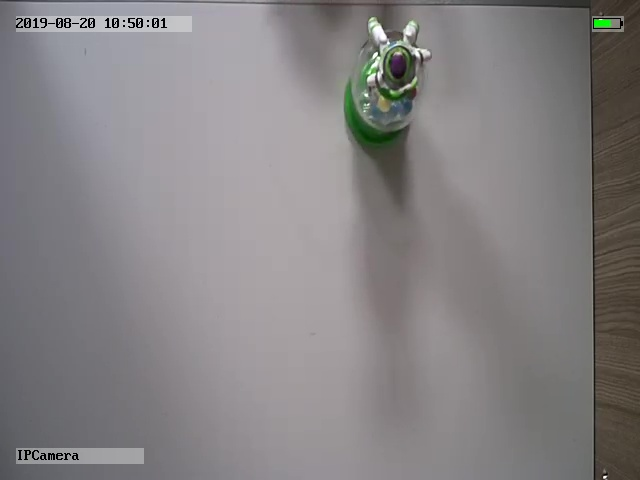buzz: (341, 16, 432, 150)
